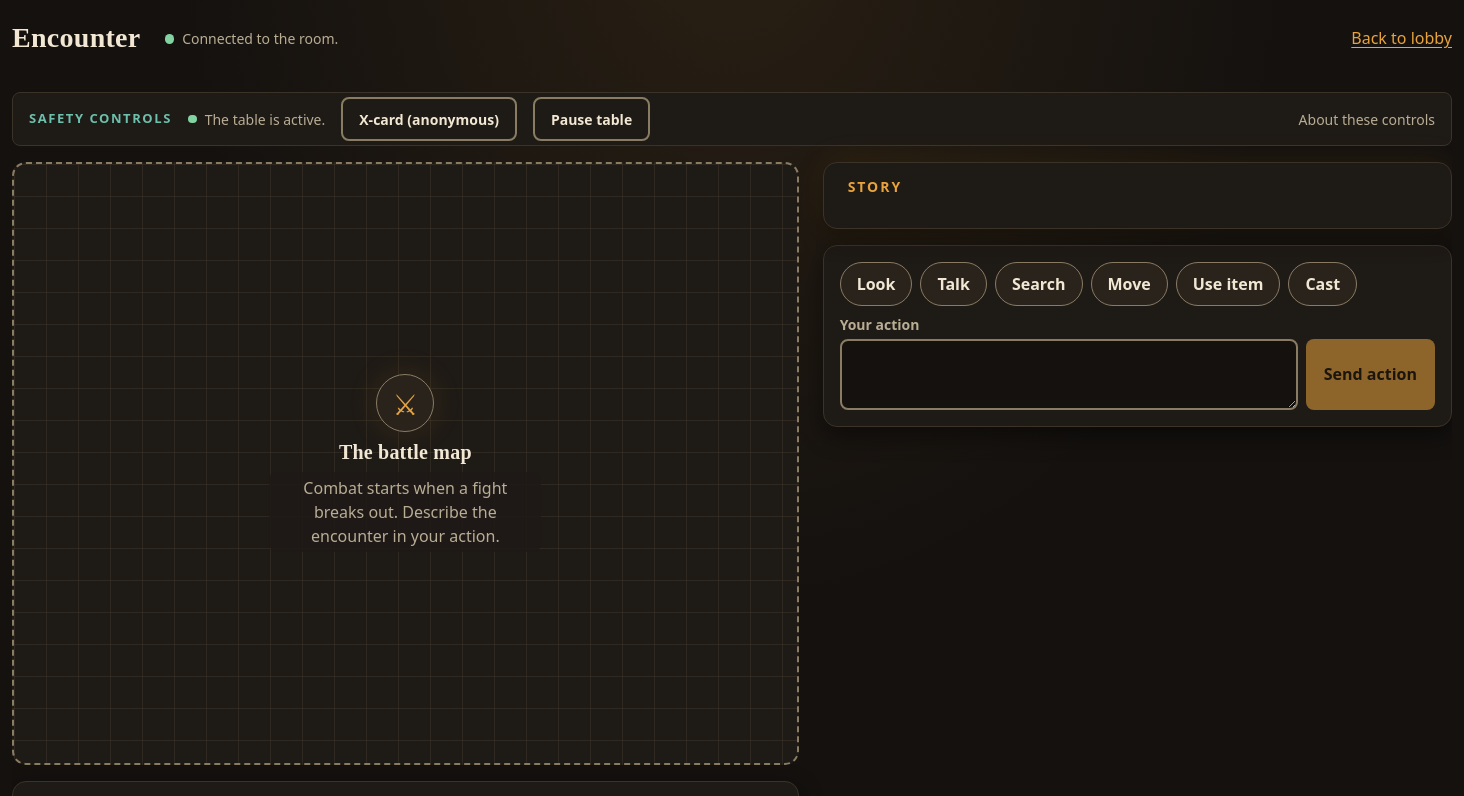
Scenario: Game screen (live Room) › a turn failure for another seat leaves this seat queued and offers no retry
Type "I search the room." into the text box labelled "Your action".
click(1069, 374); type("I search the room.")  # box [840,339,1298,410]
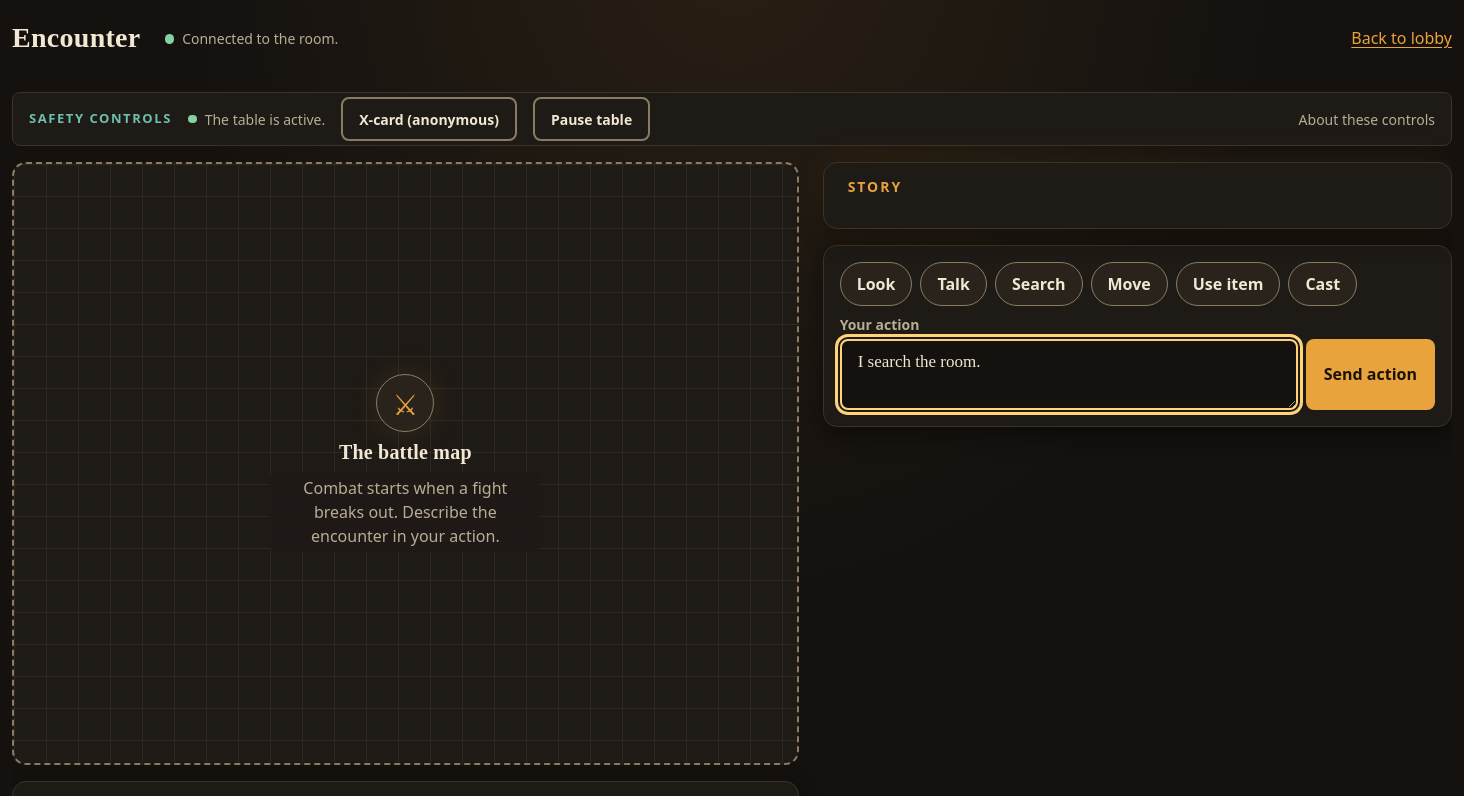
Click the button "Send action".
click(1370, 374)  # box [1306,339,1435,410]
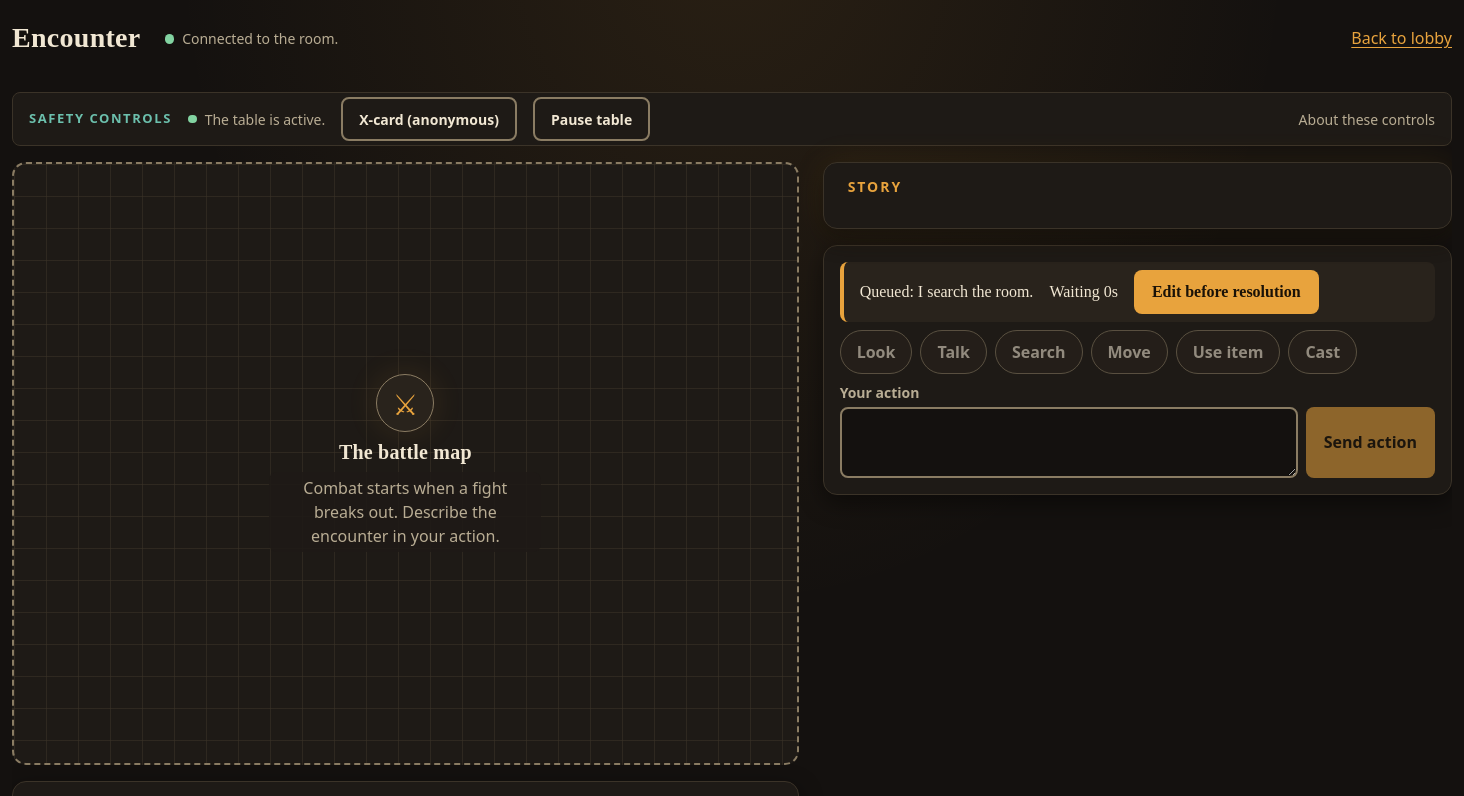
Result: the text "Queued: I search the room." is shown at [860,280,1033,304]
Result: the text box labelled "Your action" is empty at [840,407,1298,478]
